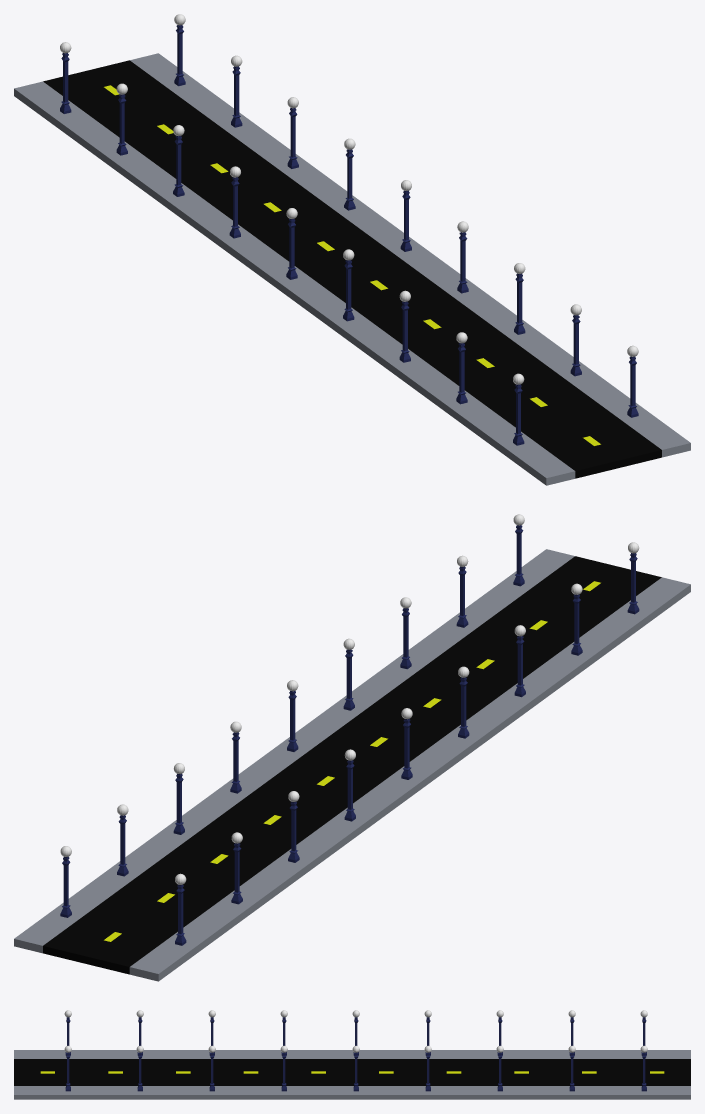
Rendered from roads.fbx.
3 renders of one model, top to bottom at view 1: azimuth 30°, elevation 25°; view 2: azimuth 150°, elevation 25°; view 3: azimuth 270°, elevation 25°, orthographic. The views are drawn at different scales.
Parts seen in each view (by area): view 1: Cube, Cube.001; view 2: Cube, Cube.001; view 3: Cube, Cube.001.
Boxes of the visible parts, box(x1,y1,x2,y2) form: Cube: box(14, 53, 690, 485); Cube.001: box(60, 14, 638, 445); Cube: box(14, 549, 690, 981); Cube.001: box(60, 514, 639, 945); Cube: box(14, 1050, 690, 1099); Cube.001: box(64, 1010, 647, 1091).
Bounding box in the file's own units: 4000 × 2030 × 25515.
